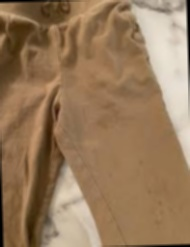oil: (85, 96, 118, 137), (131, 157, 147, 169)
